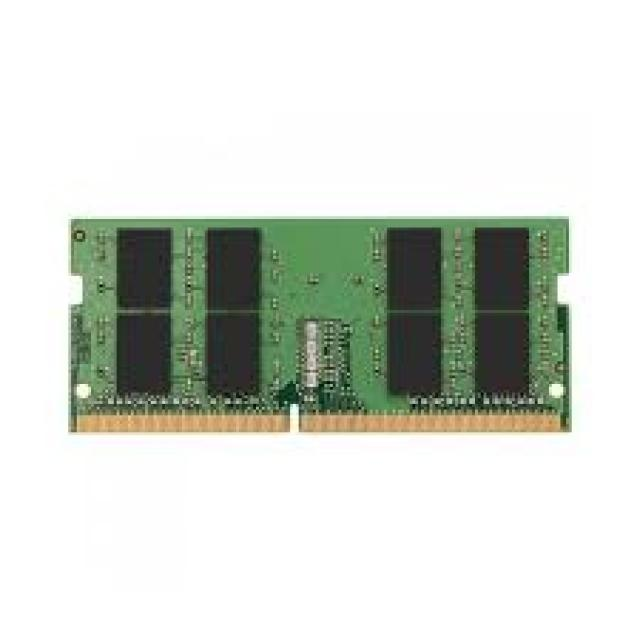Ram: (30, 105, 637, 512)
